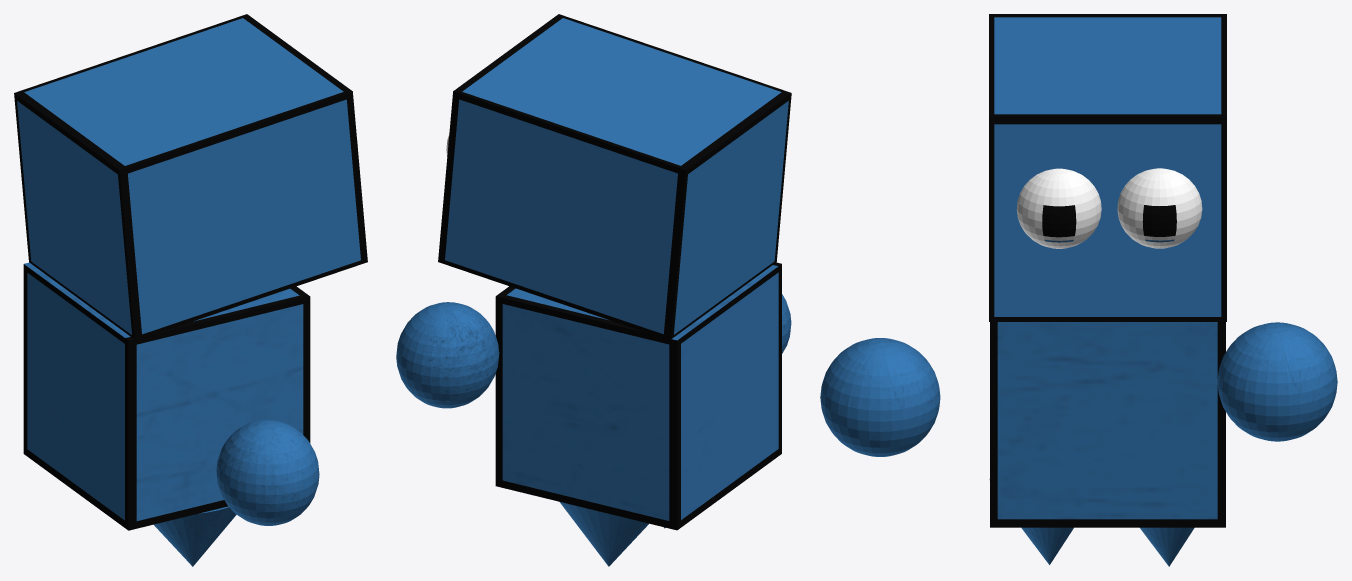
The model's file is kyaraao.fbx.
3 views of the same model, side by side, from view 1: azimuth 30°, elevation 25°; view 2: azimuth 150°, elevation 25°; view 3: azimuth 270°, elevation 25° (orthographic). The views are drawn at different scales.
Parts seen in each view (by area): view 1: 球.007; view 2: 球.007; view 3: 球.007.
Part boxes in pixels (bbox=[...]): 球.007: bbox=[14, 14, 367, 566]; 球.007: bbox=[396, 14, 791, 566]; 球.007: bbox=[820, 14, 1337, 566].
Bounding box in the file's own units: 291 × 487 × 438.
